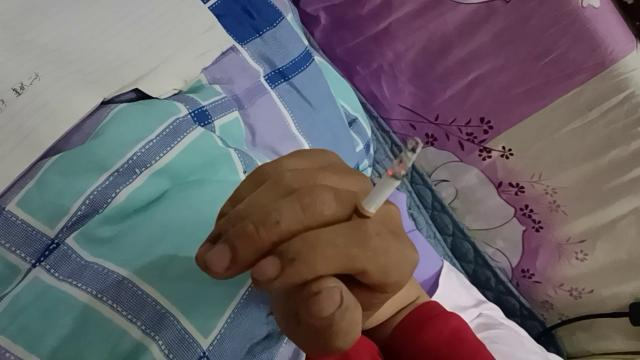Smoking: (342, 136, 424, 241)
